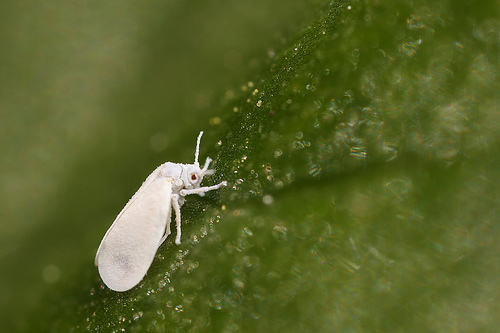whitefly: (95, 131, 227, 294)
